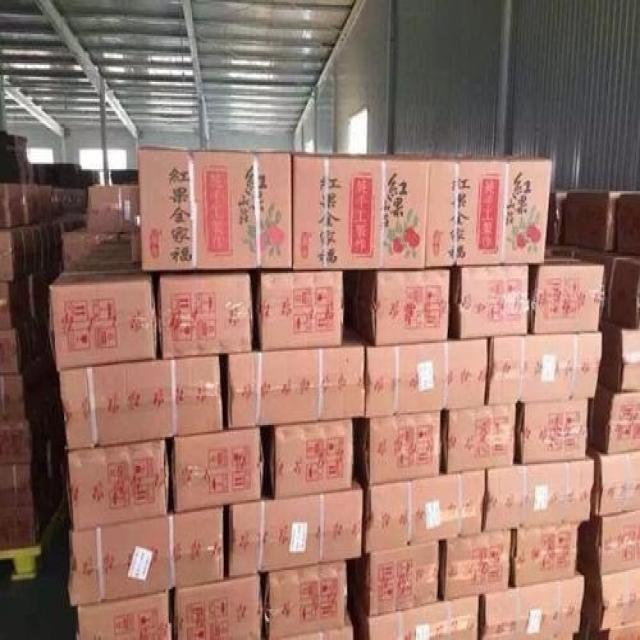box: (140, 145, 292, 271), (60, 336, 223, 451), (67, 488, 224, 606), (293, 152, 429, 270), (220, 324, 366, 428), (223, 476, 364, 577), (426, 154, 552, 266), (349, 326, 489, 418), (47, 261, 157, 369), (356, 466, 486, 553), (67, 439, 170, 531), (486, 329, 602, 404), (483, 456, 595, 532), (156, 273, 253, 358), (344, 268, 451, 345), (170, 428, 265, 512), (479, 570, 585, 640), (256, 271, 344, 350), (268, 420, 355, 498), (347, 589, 479, 640), (262, 561, 348, 638), (353, 541, 440, 616), (352, 411, 442, 483), (174, 570, 265, 640), (527, 256, 605, 333), (449, 265, 530, 338), (438, 529, 512, 601), (442, 403, 517, 471), (563, 189, 640, 251), (74, 592, 173, 640), (516, 398, 589, 463), (511, 524, 582, 585), (579, 561, 640, 630), (577, 246, 634, 317), (579, 509, 640, 575), (589, 445, 640, 515), (589, 386, 640, 454), (61, 227, 140, 268), (0, 490, 52, 550), (599, 319, 640, 394), (0, 452, 49, 509), (0, 406, 46, 464), (86, 184, 140, 232), (0, 360, 40, 420), (273, 613, 353, 640), (611, 256, 640, 328), (575, 614, 640, 640), (0, 323, 27, 374), (617, 195, 640, 254), (0, 229, 24, 282), (0, 278, 23, 328), (547, 189, 568, 242), (0, 183, 23, 227), (22, 184, 41, 224), (20, 227, 33, 275)
